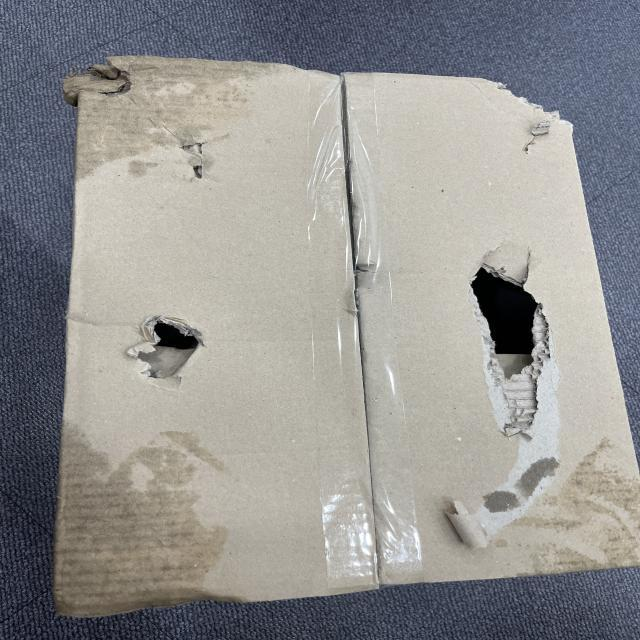hole: (444, 225, 574, 418), (99, 292, 224, 393), (474, 66, 592, 146)
wet: (58, 424, 228, 620), (93, 53, 266, 171)
